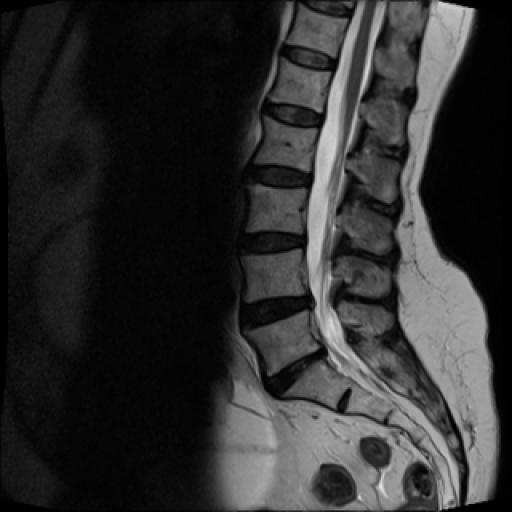L1: (268, 56, 332, 112)
L2: (254, 115, 319, 172)
L3: (246, 186, 306, 234)
L4: (242, 249, 306, 302)
L5: (244, 311, 319, 380)
S1: (280, 358, 352, 410)
